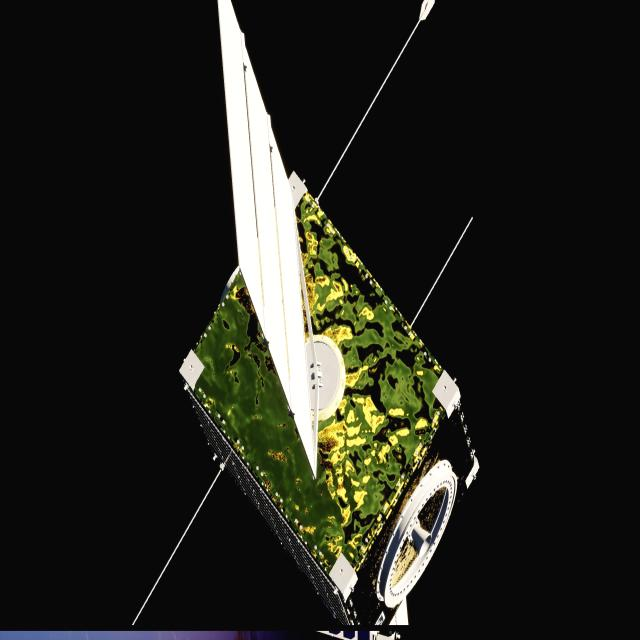medium_debris: (179, 0, 477, 639)
